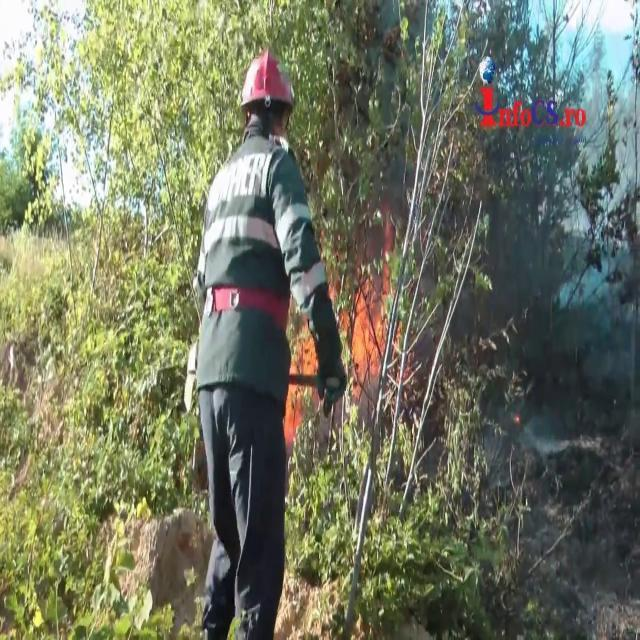Fire: (347, 262, 384, 386)
